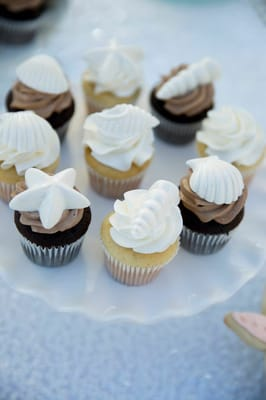curry: (0, 5, 260, 398)
sushi: (100, 181, 184, 286), (82, 103, 158, 198), (9, 181, 92, 266), (178, 156, 248, 255), (150, 59, 217, 144), (0, 110, 61, 203), (6, 54, 75, 136), (195, 104, 265, 184), (81, 48, 144, 112)
